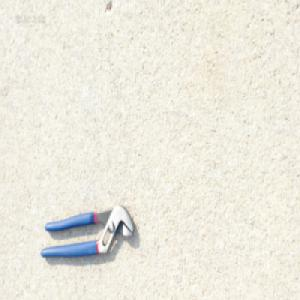Pliers: (40, 202, 136, 261)
